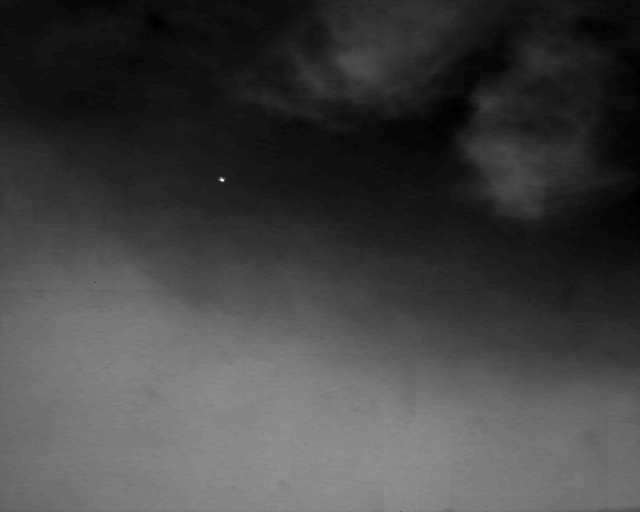Target: (219, 177, 226, 183)
